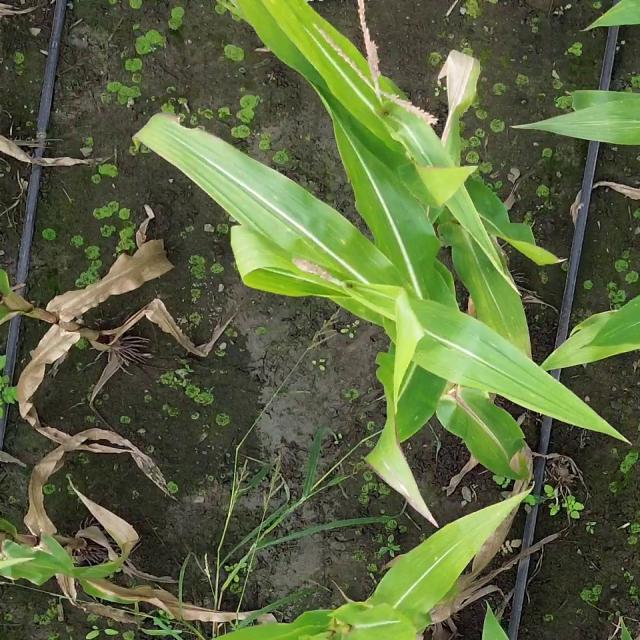gray-leaf-spot: (307, 213, 385, 269), (580, 103, 640, 138)
northern-leaf-blight: (447, 392, 517, 456)
